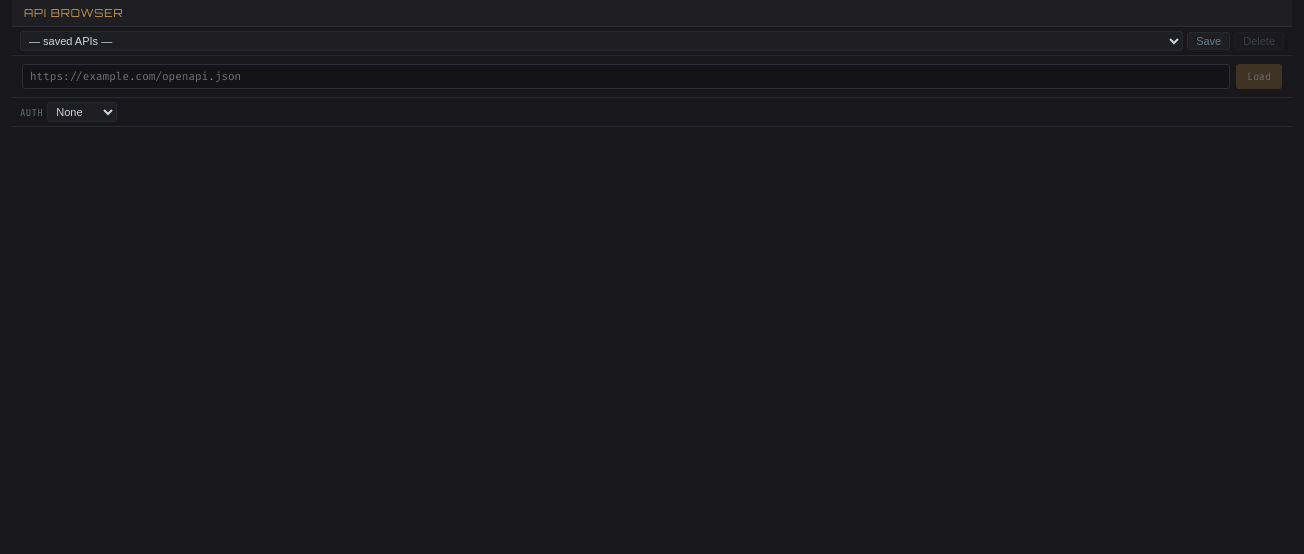
Test: ApiPanel › expands an operation to show parameters on click
Type "https://example.com/api.json" into the field with placeholder "https://example.com/openapi.json".
click(626, 76); type("https://example.com/api.json")  # box [22, 64, 1230, 89]
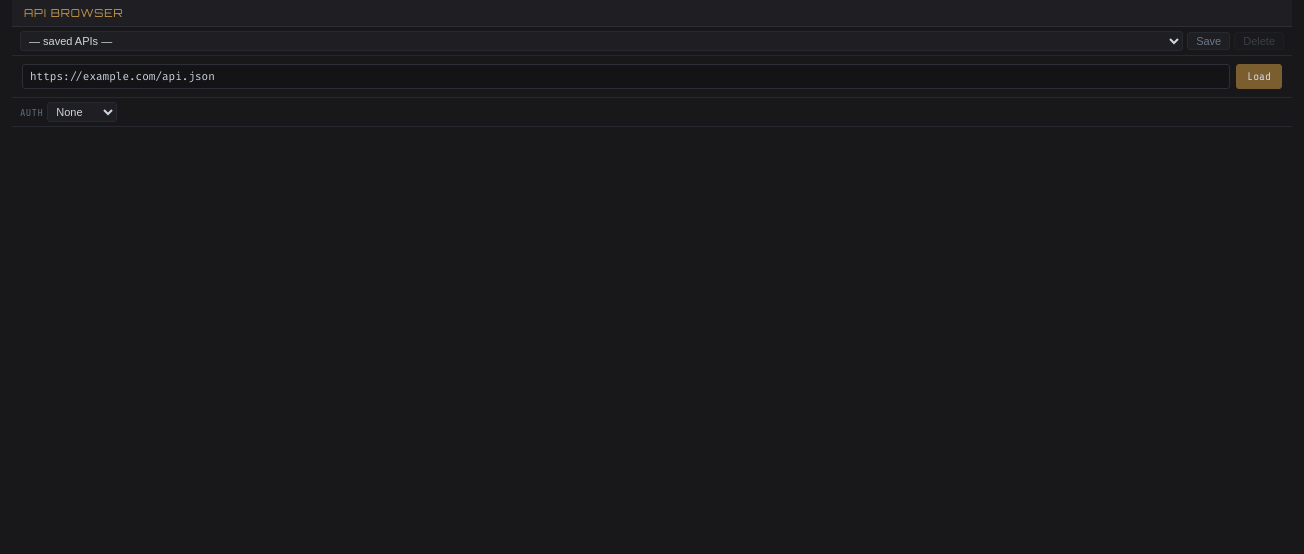
Click the button "Load".
click(1259, 76)  # box [1236, 64, 1282, 89]
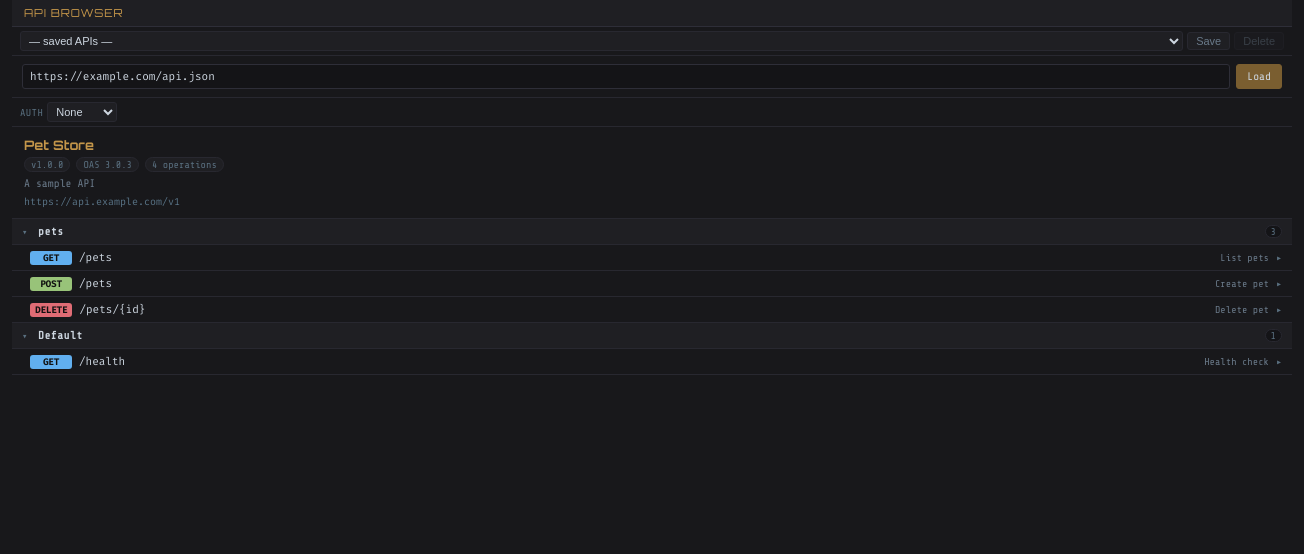
Expected: the text "Pet Store" is shown, [24, 137, 94, 153]
# Click the GET /pets operation
Click the text "List pets".
click(1245, 258)  # box [1220, 252, 1269, 263]
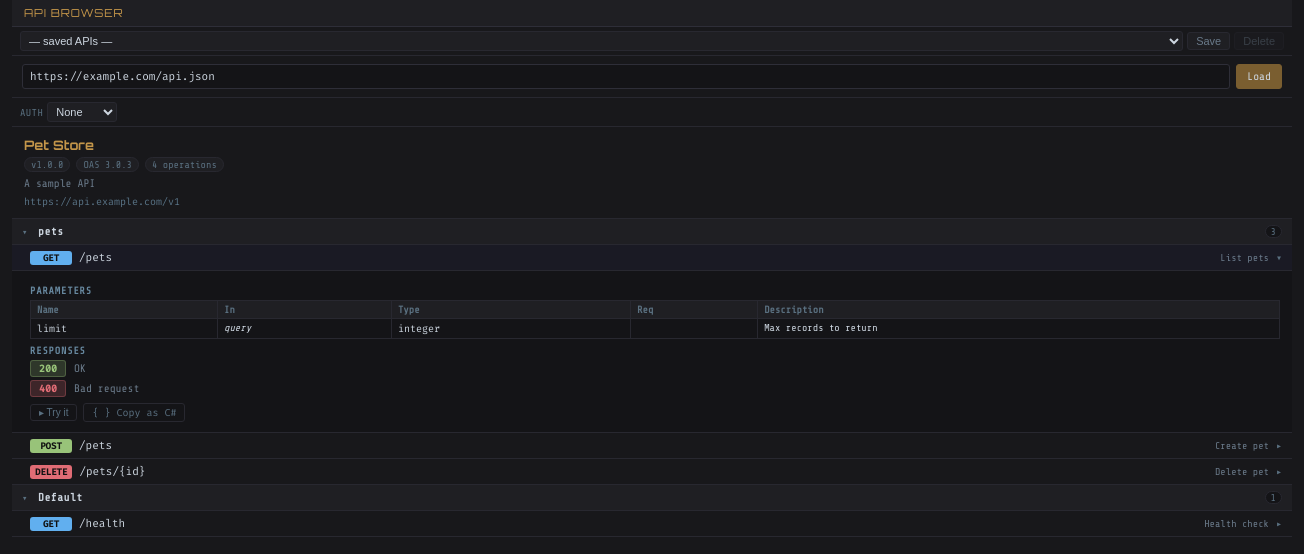
Expected: the text "limit" is shown, [30, 319, 218, 339]
Expected: the text "Max records to return" is shown, [764, 322, 878, 333]
